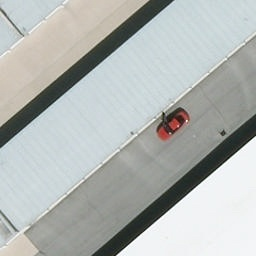car: (155, 107, 192, 143)
